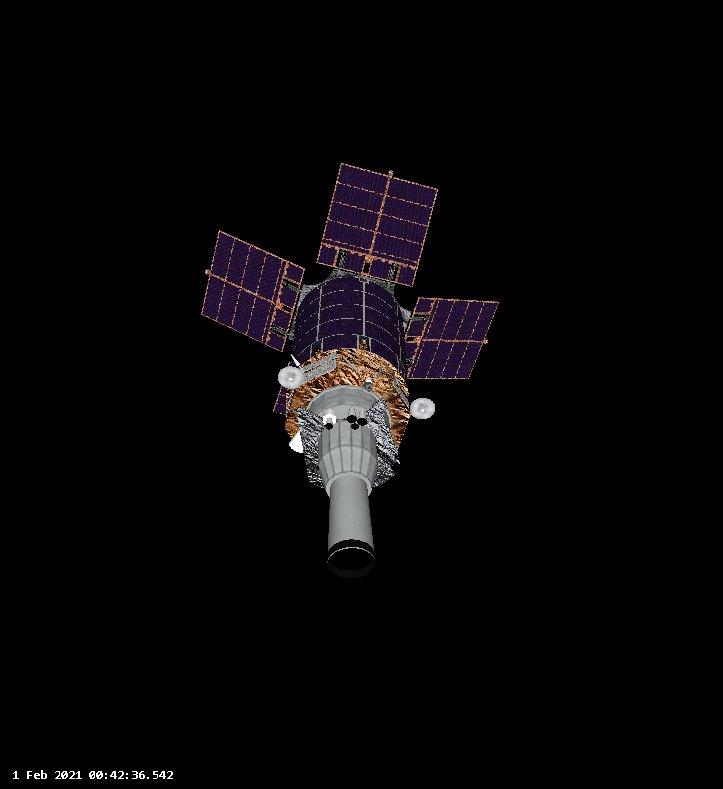antenna: (408, 396, 436, 421), (278, 365, 305, 389), (290, 353, 305, 376)
body: (283, 279, 405, 438)
solar: (316, 162, 438, 289), (201, 230, 306, 354), (288, 277, 408, 378), (401, 297, 500, 380), (272, 385, 287, 416)
thruster: (322, 468, 380, 580), (288, 429, 305, 454), (347, 405, 358, 423), (357, 409, 368, 426), (324, 416, 334, 432), (351, 420, 359, 431)
